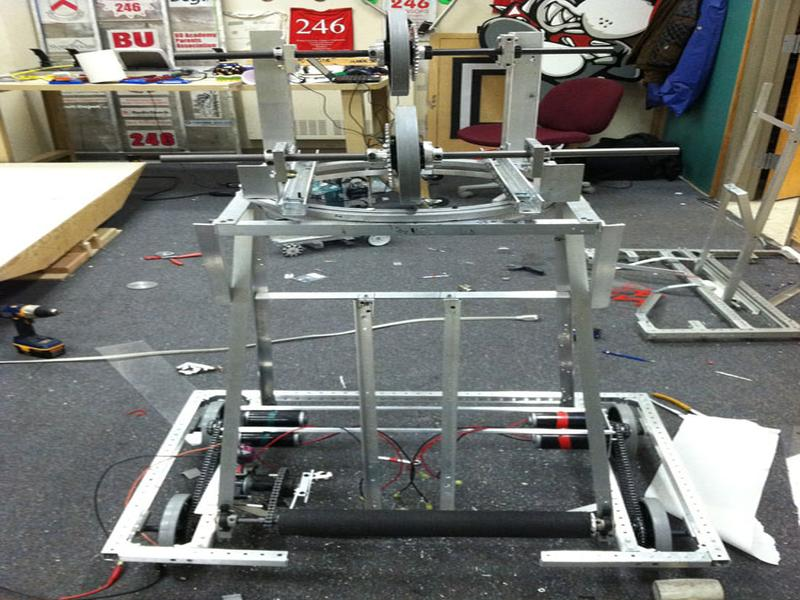robot: (103, 13, 679, 587)
